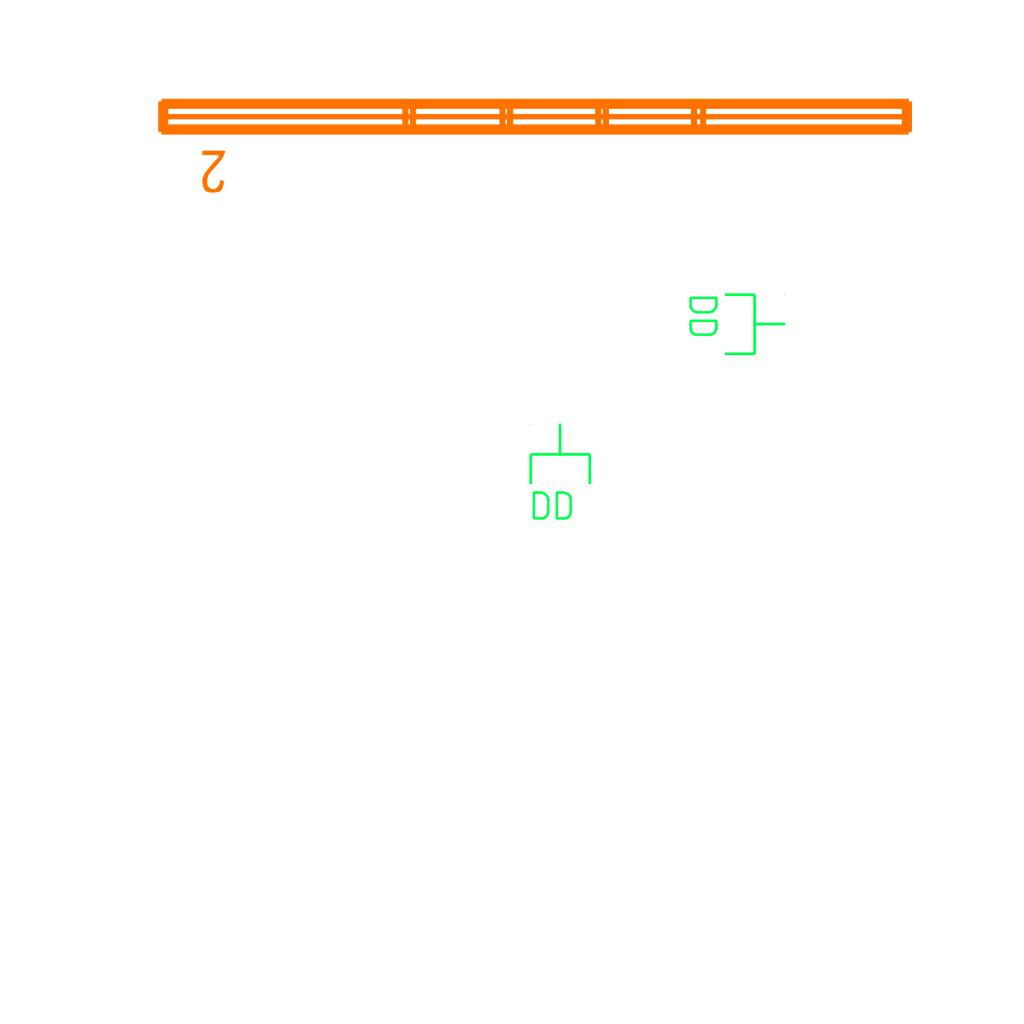Ambulanz_Pendelleuchte_LED: (149, 86, 923, 198)
Datenanschluss_zweifach: (685, 289, 788, 358), (525, 421, 594, 524)
